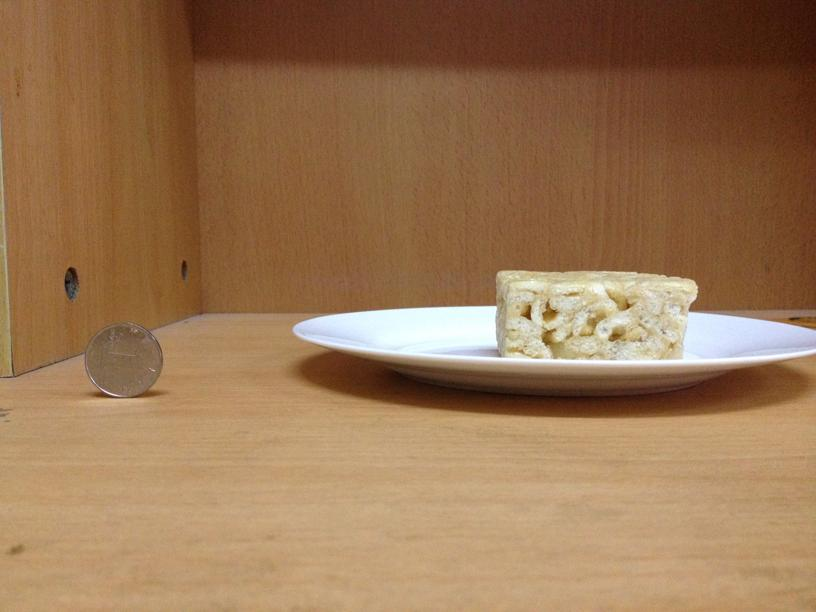coin: (80, 320, 164, 397)
sachima: (494, 270, 695, 358)
